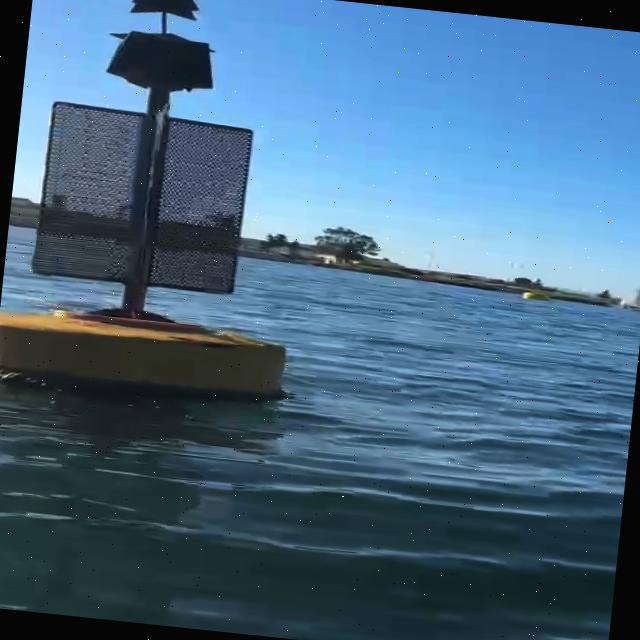marque: (1, 1, 327, 414)
